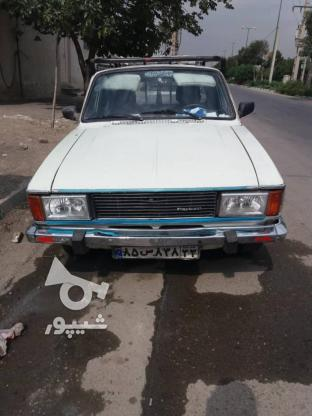car: (112, 245, 200, 260)
